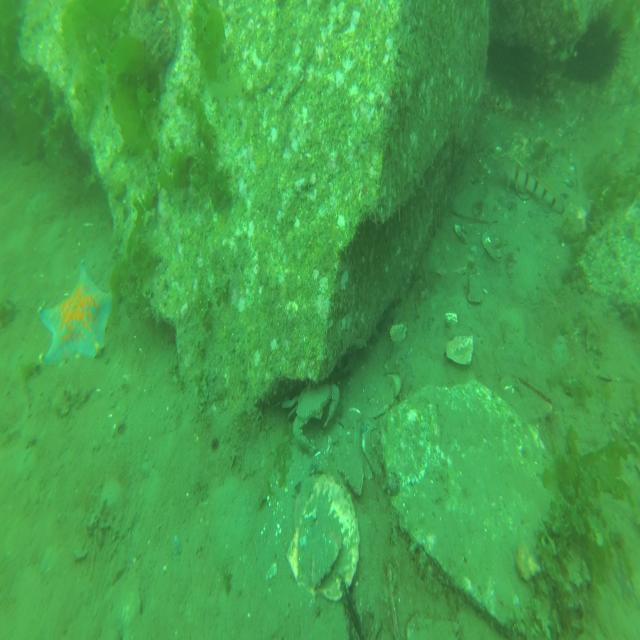echinus: (565, 15, 628, 85)
scallop: (286, 472, 360, 602)
starfish: (38, 262, 113, 367)
